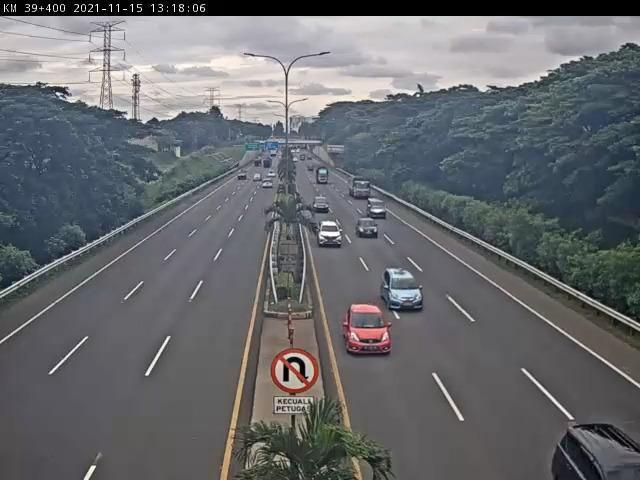car: (344, 304, 395, 359), (382, 267, 426, 312), (319, 221, 344, 246), (357, 217, 382, 239)
